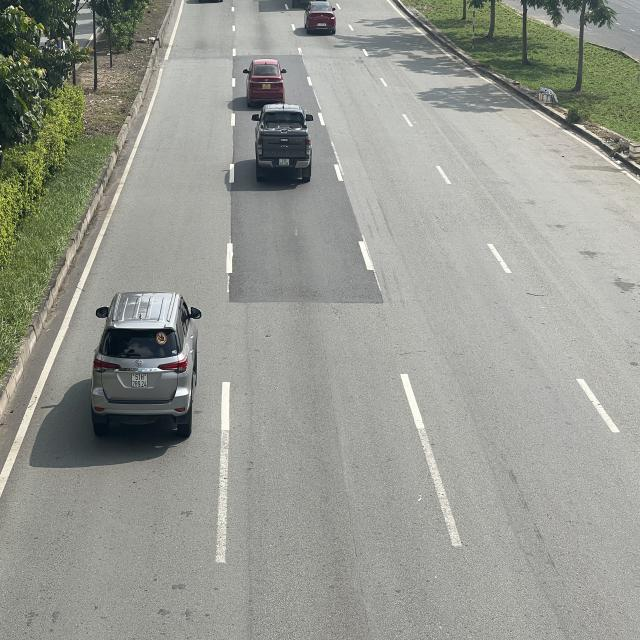car: (91, 291, 201, 434), (253, 105, 314, 181), (246, 58, 288, 104), (304, 0, 338, 34)
